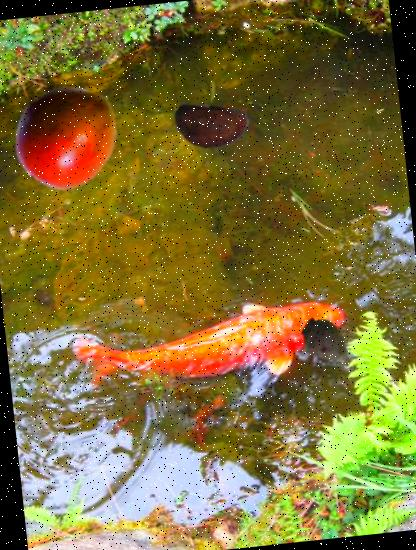Beetroot: (294, 309, 362, 377)
Chestnut: (169, 87, 251, 168)
Mango: (6, 74, 129, 198)
